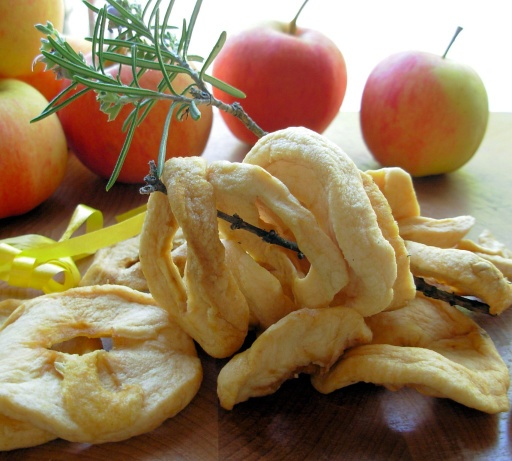background: (0, 1, 410, 326), (0, 0, 108, 158), (21, 15, 158, 67), (46, 63, 138, 133), (21, 16, 131, 65), (10, 16, 106, 62), (14, 14, 96, 57), (24, 23, 74, 48)
